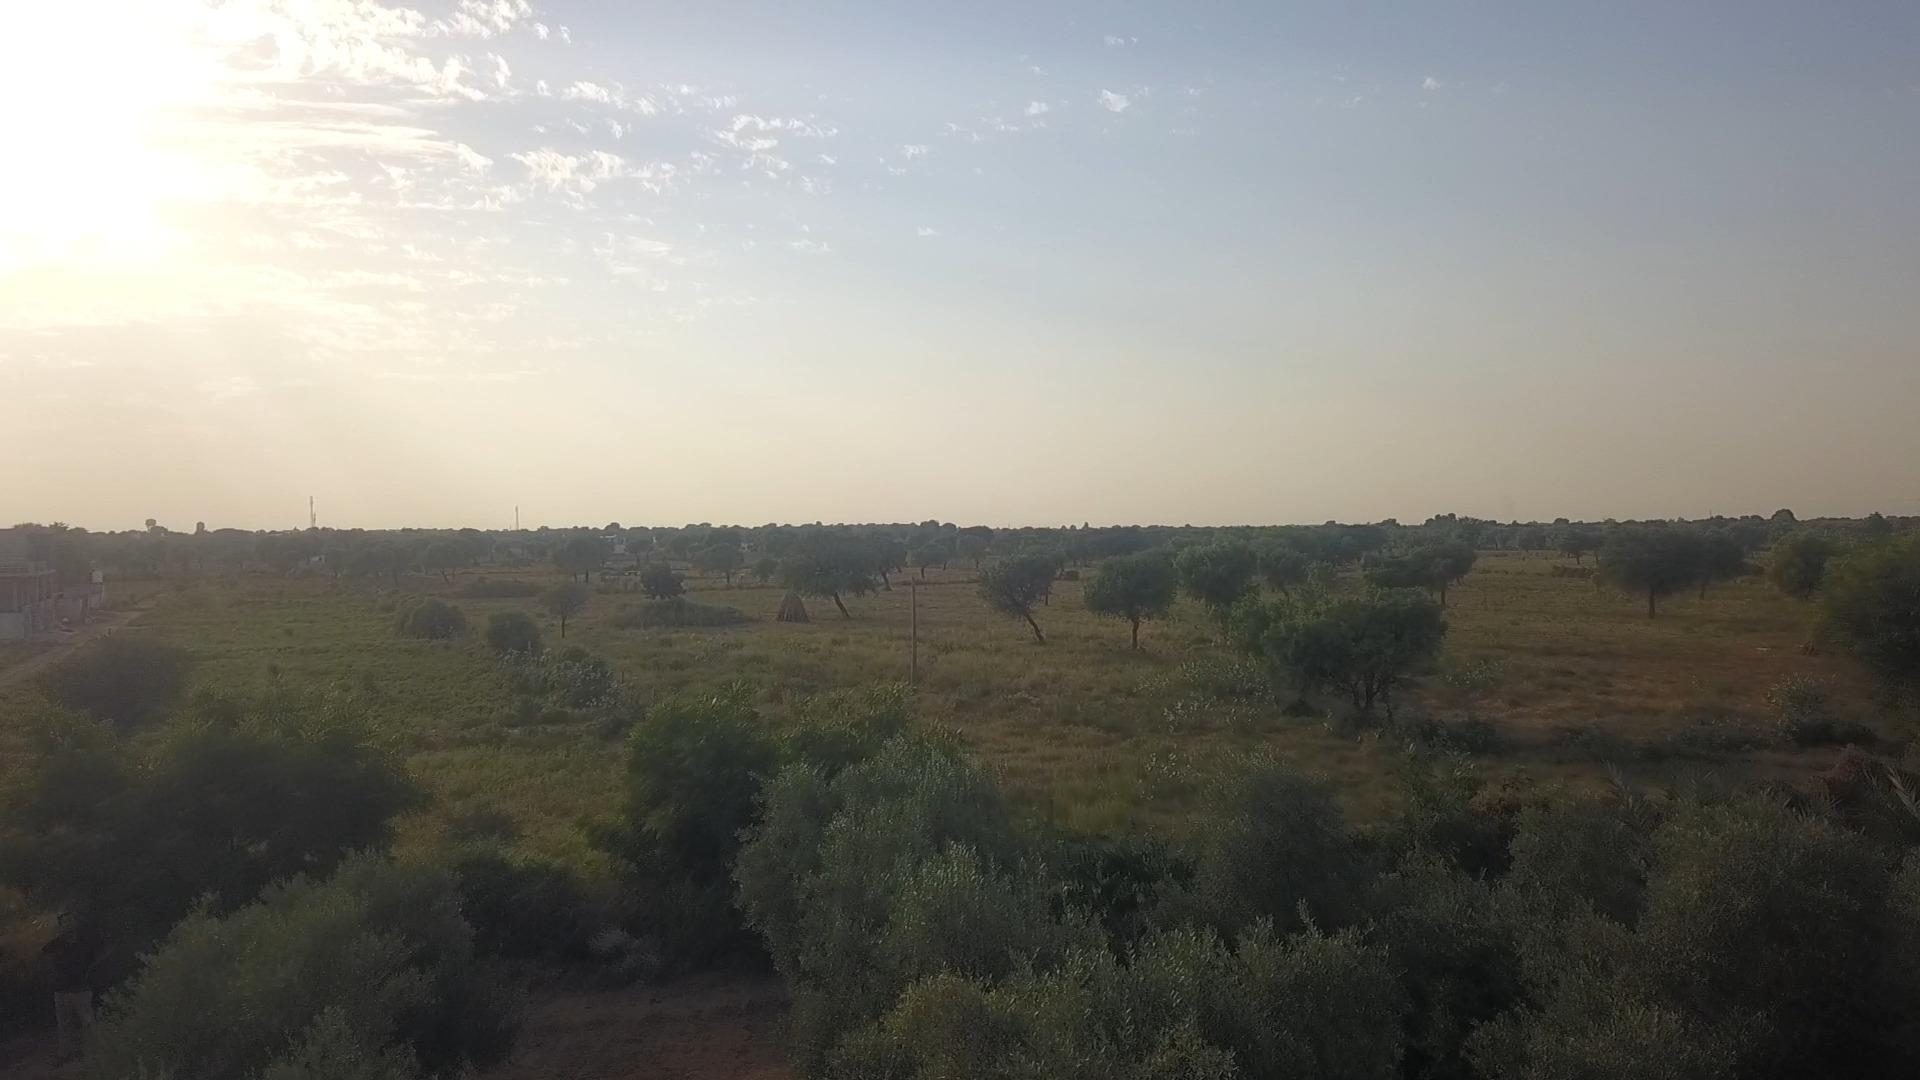canopy: (737, 741, 1398, 1079), (86, 852, 518, 1079)
road: (477, 971, 800, 1079)
